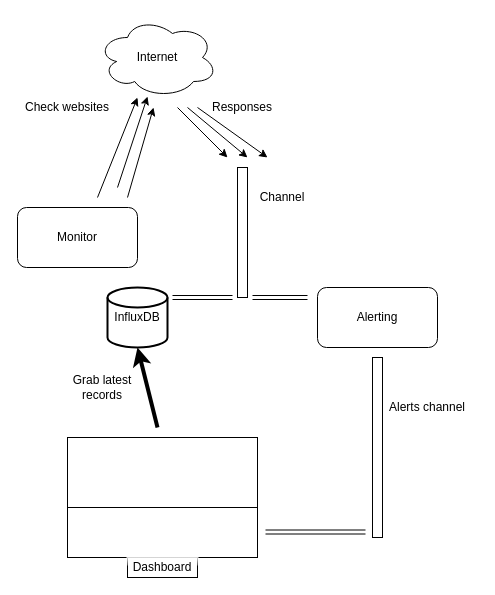
Image size: 495x595. Some labels were removed from this diagram. The shapes that lost their labels are listed below. From the top down, each one's centre as x and y in pixels, then its label:
At pixel 162 472: "Stats".
At pixel 162 532: "Alerts".
